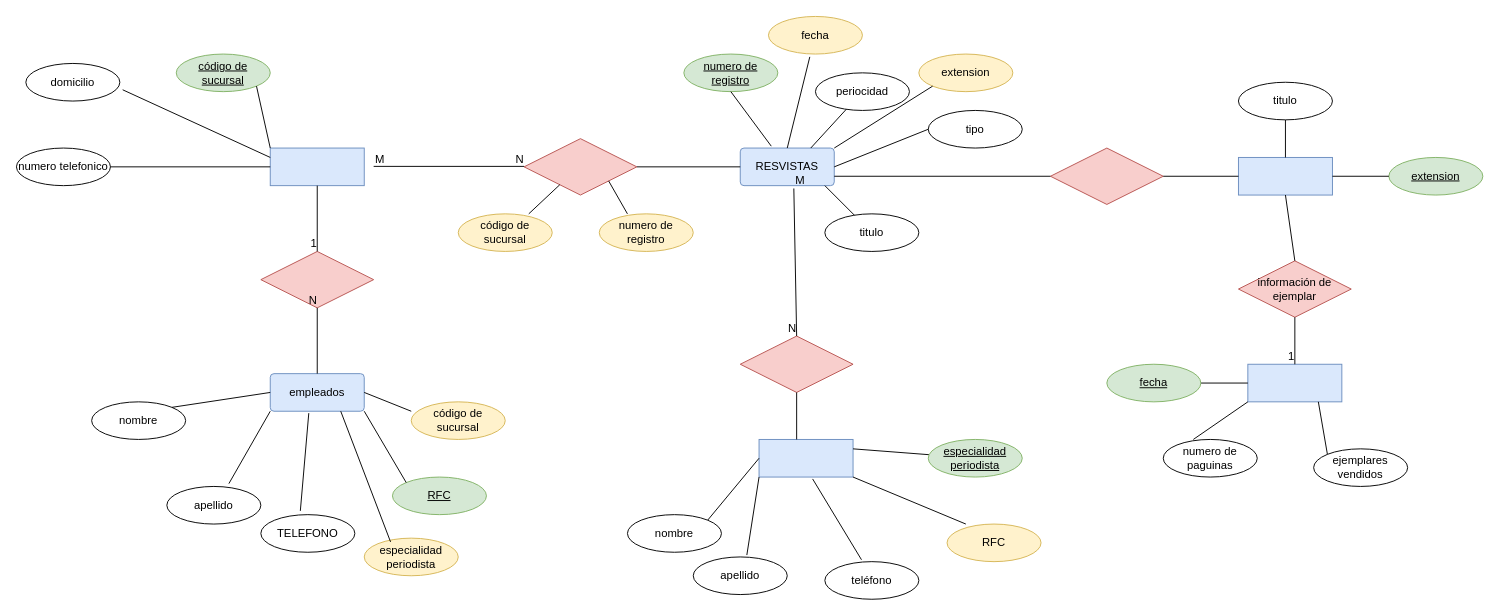
Image size: 1499x616. Some labels were removed from this diagram. The shapes that lost their labels are listed below. From the top down, each one's centre as x and y in pixels, then its label:
At point 316,166: "sucursal".
At point 580,166: "registro".
At point 1106,175: "guardad".
At point 1285,176: "secciones".
At point 317,279: "tiene".
At point 796,363: "articulos".
At point 1294,382: "ejemplares".
At point 805,458: "periodistas".
